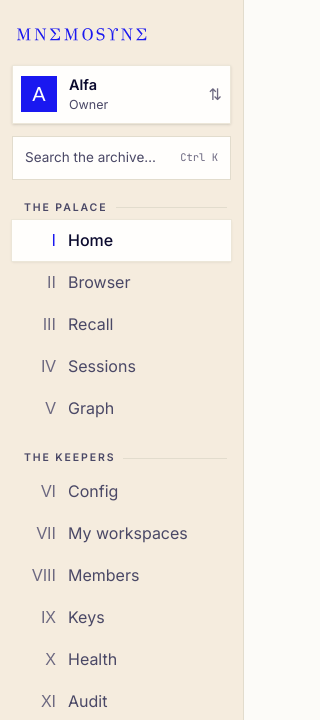
Test case: APP-043 a workspace list the server takes too long on says so, and Try again asks again
The width and height of the screenshot is (320, 720).
Step 1. Click the button named "Switch workspace" → [122, 94], box [12,65,231,124]
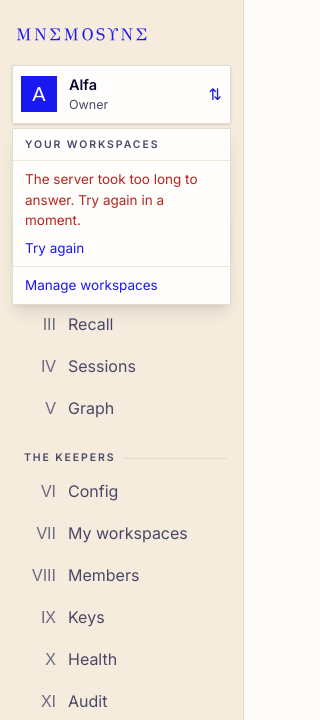
expect the message reads "The server took too long to answer. Try again in a moment.": met, box [25,171,198,228]
Step 2. Click the button "Try again" → [55, 252], box [13,238,96,266]
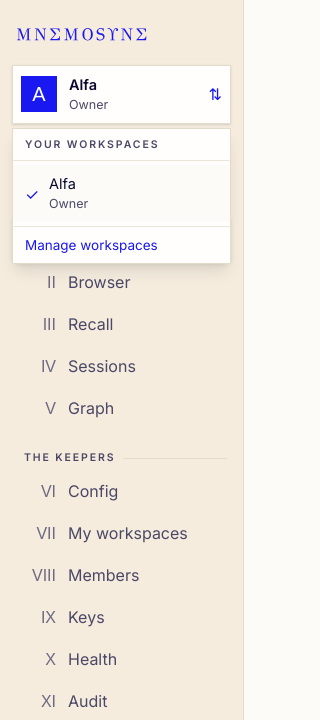
expect the button "✓ Alfa Owner" is disabled: met, box [13,165,230,222]
